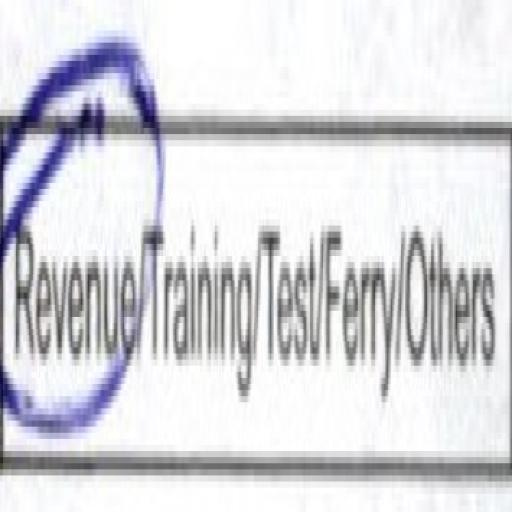check: (0, 31, 147, 512)
